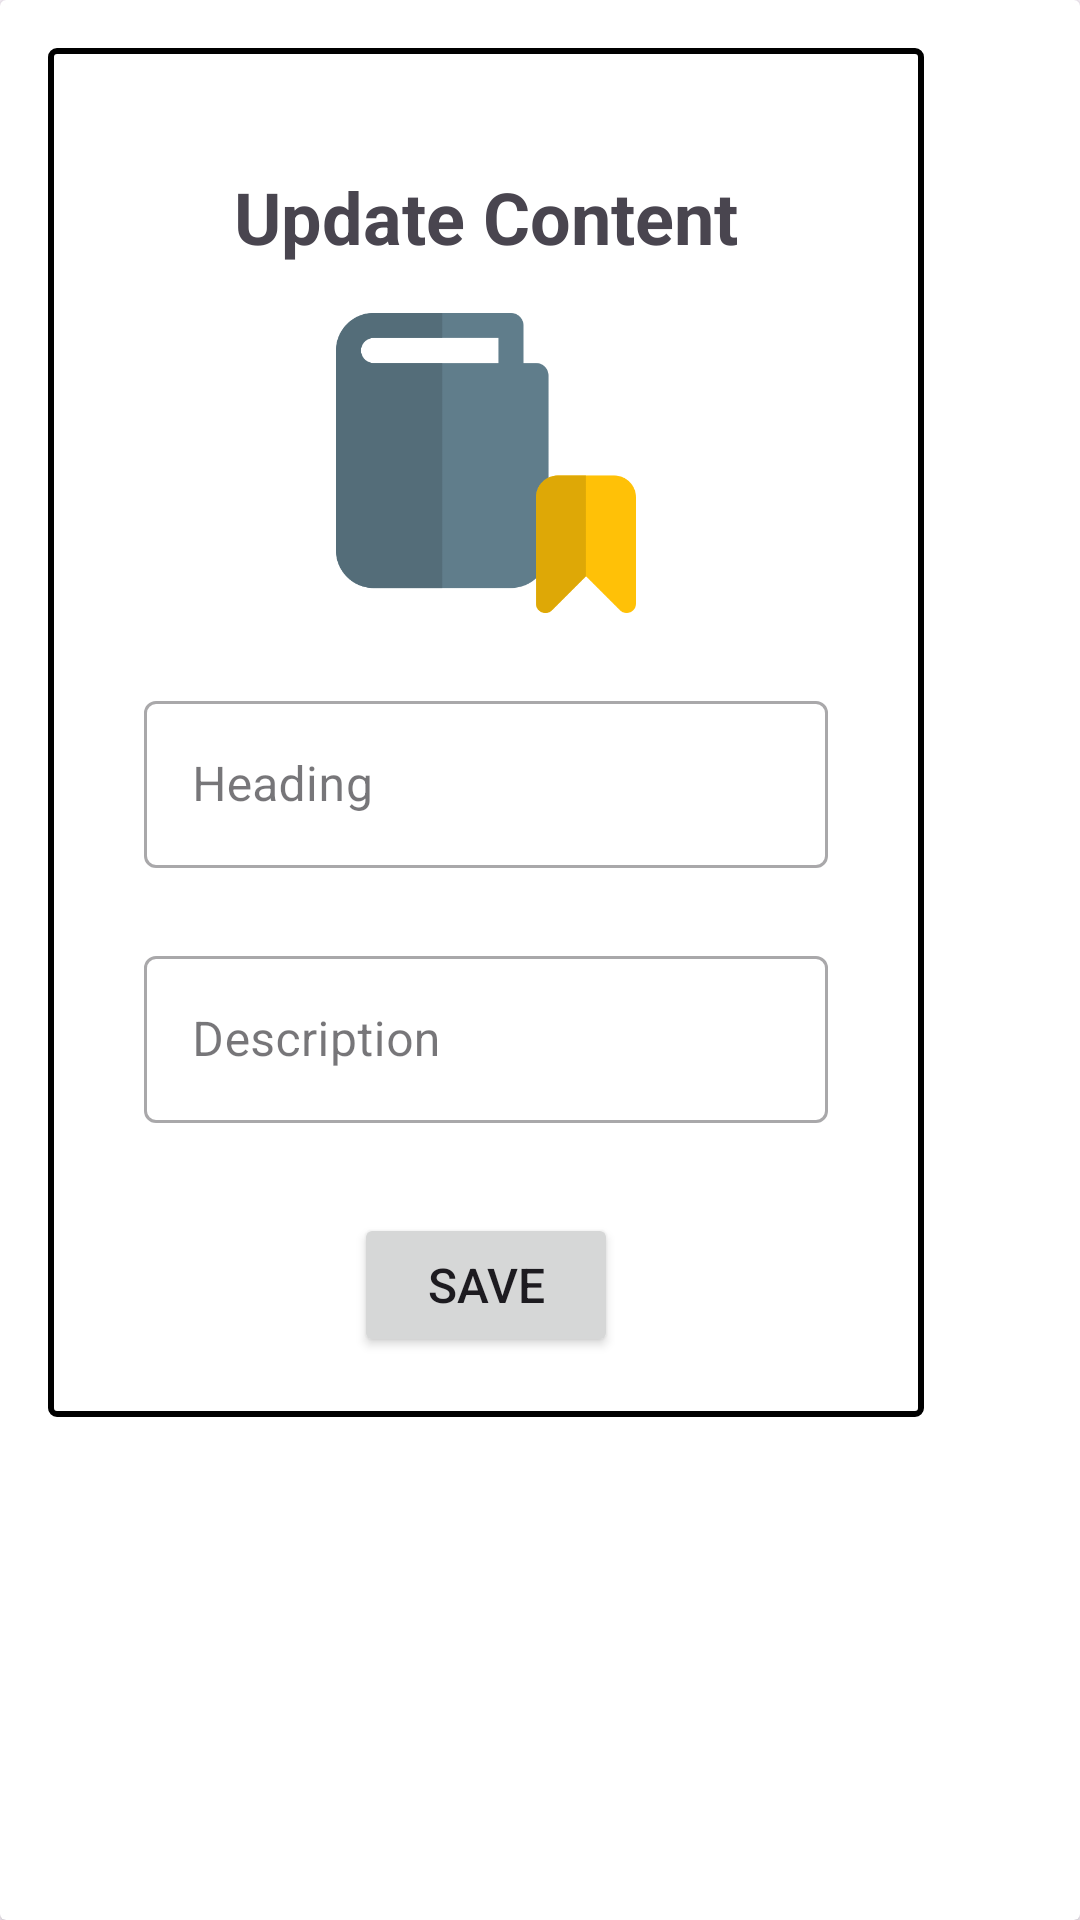

Where to tap for icons on this 1080 x 1920 app screen, as point (x, y):
bookmark: point (486, 463)
